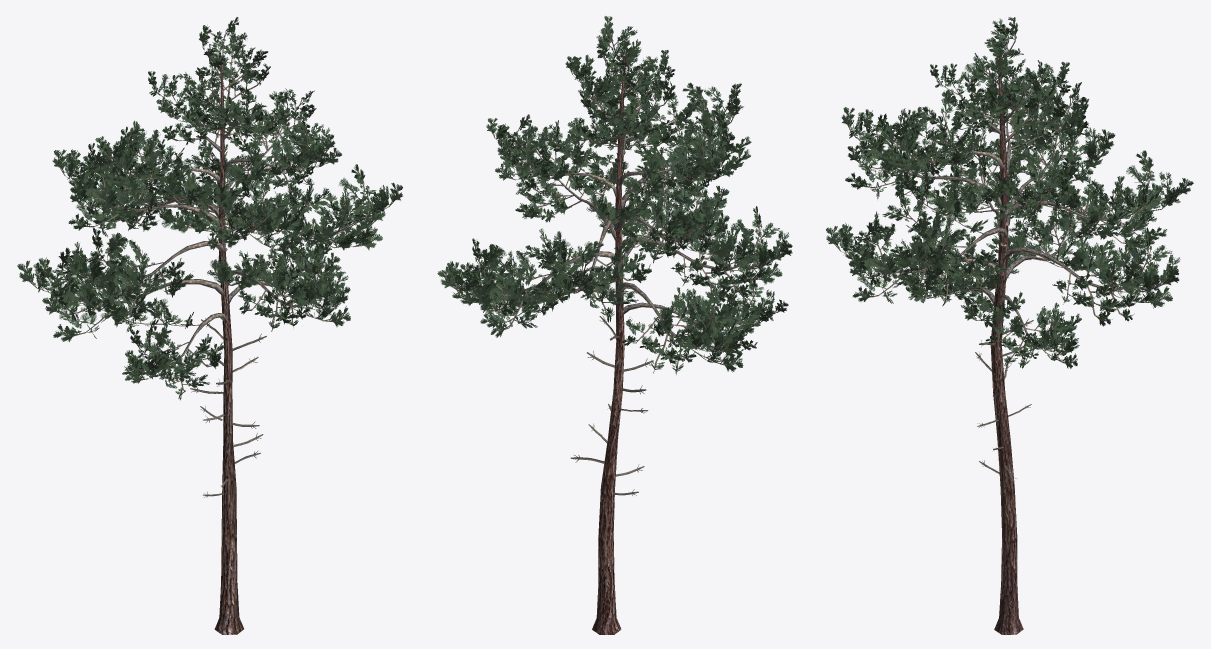
Rendered from 1_白杨树.gltf.
The picture shows the model from 3 angles, left to right: view 1: azimuth 30°, elevation 25°; view 2: azimuth 150°, elevation 25°; view 3: azimuth 270°, elevation 25°; orthographic projection.
Parts seen in each view (by area): view 1: 白杨树01; view 2: 白杨树01; view 3: 白杨树01.
Boxes of the visible parts, <box> form: 白杨树01: <box>17,17,402,634</box>; 白杨树01: <box>437,16,792,634</box>; 白杨树01: <box>826,17,1193,634</box>.
Size of the model in its own units: 4.21 by 8.02 by 4.45.
2 materials, 2 textured.
